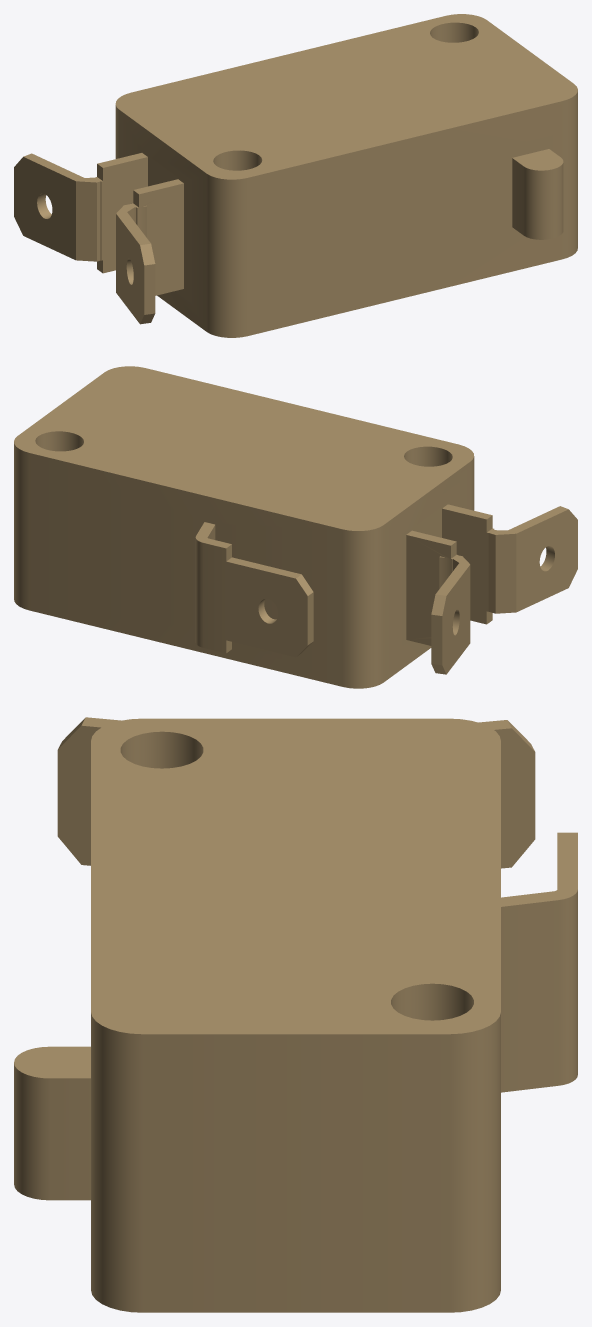
Rendered from micro switch.fbx.
3 views of the same model, one above another, from view 1: azimuth 30°, elevation 25°; view 2: azimuth 150°, elevation 25°; view 3: azimuth 270°, elevation 25° (orthographic). The views are drawn at different scales.
Visible parts, largest first — view 1: Limit Switch 2 1640061295.001; view 2: Limit Switch 2 1640061295.001; view 3: Limit Switch 2 1640061295.001.
Boxes of the visible parts, <box> form: Limit Switch 2 1640061295.001: <box>14,14,577,337</box>; Limit Switch 2 1640061295.001: <box>14,366,577,688</box>; Limit Switch 2 1640061295.001: <box>14,717,577,1312</box>.
Size of the model in its own units: 58.19 by 19.44 by 35.68.
